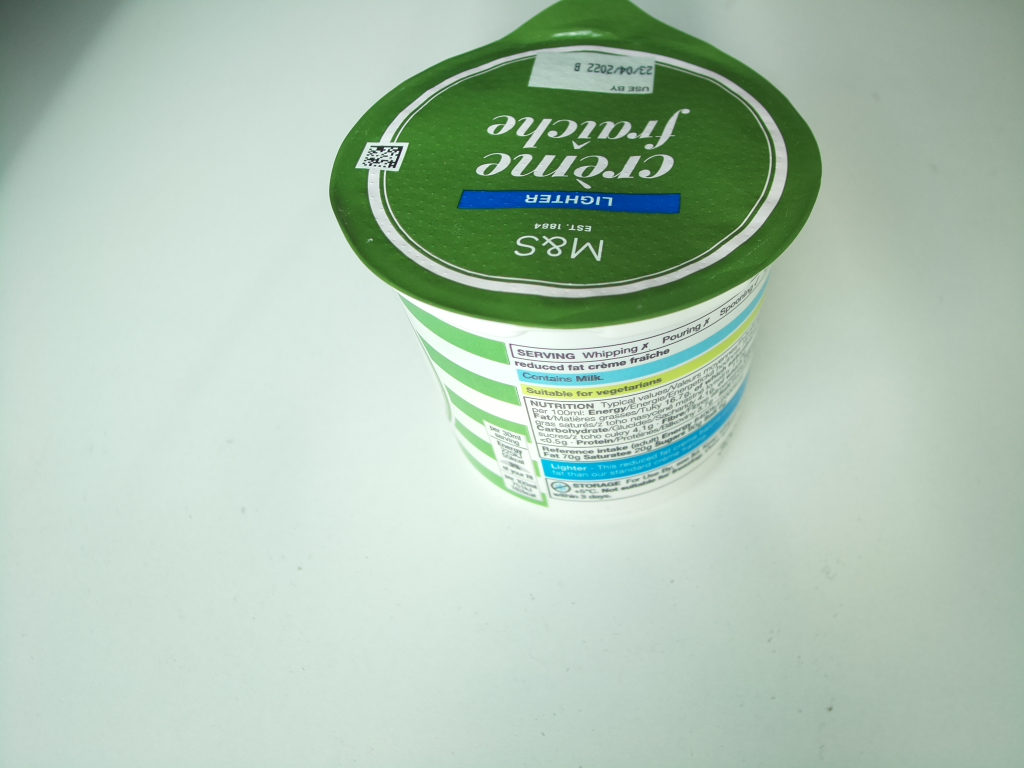cream: (333, 1, 824, 519)
